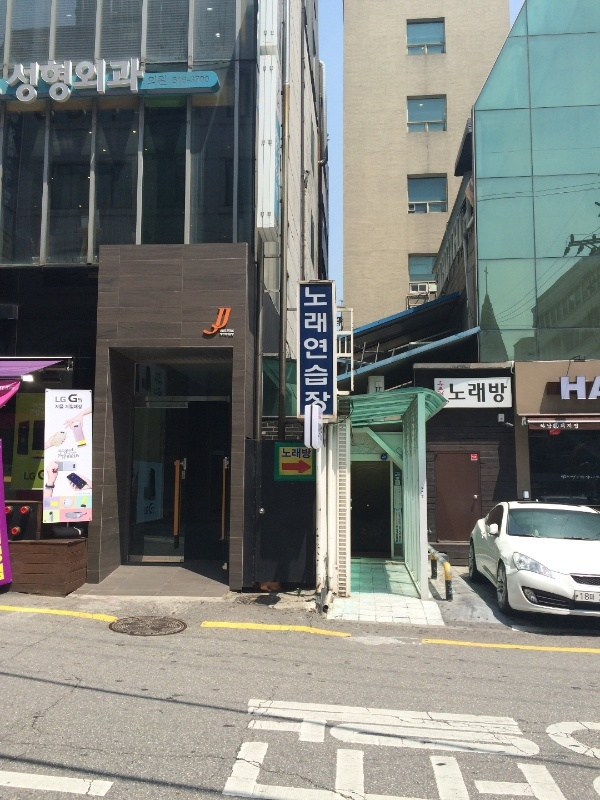text: (305, 286, 320, 414), (321, 286, 331, 414), (561, 376, 576, 401), (577, 376, 592, 401), (449, 383, 464, 406), (465, 383, 480, 406), (481, 383, 496, 406), (225, 308, 233, 341), (497, 383, 508, 406), (217, 308, 224, 341), (33, 403, 46, 418), (437, 380, 448, 397), (289, 447, 304, 459), (593, 376, 600, 401), (145, 503, 155, 516), (396, 512, 400, 543), (580, 592, 592, 601), (65, 453, 80, 460), (69, 394, 80, 403), (545, 423, 560, 429), (561, 423, 576, 429), (305, 447, 312, 459), (66, 404, 80, 410), (282, 447, 288, 459), (65, 448, 77, 454), (24, 472, 32, 481), (225, 332, 235, 338), (56, 396, 64, 403), (225, 328, 235, 333), (58, 453, 64, 460), (56, 404, 64, 409), (394, 473, 400, 479), (321, 424, 323, 441), (59, 448, 64, 454), (593, 592, 596, 601), (33, 472, 36, 481), (220, 332, 224, 338), (220, 328, 224, 333), (541, 423, 544, 429), (81, 394, 83, 403), (319, 424, 320, 441), (31, 403, 32, 418), (65, 396, 67, 403), (577, 423, 579, 429), (81, 404, 83, 410)
